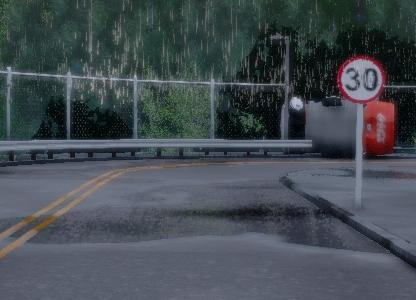Speed_30: (337, 53, 387, 104)
